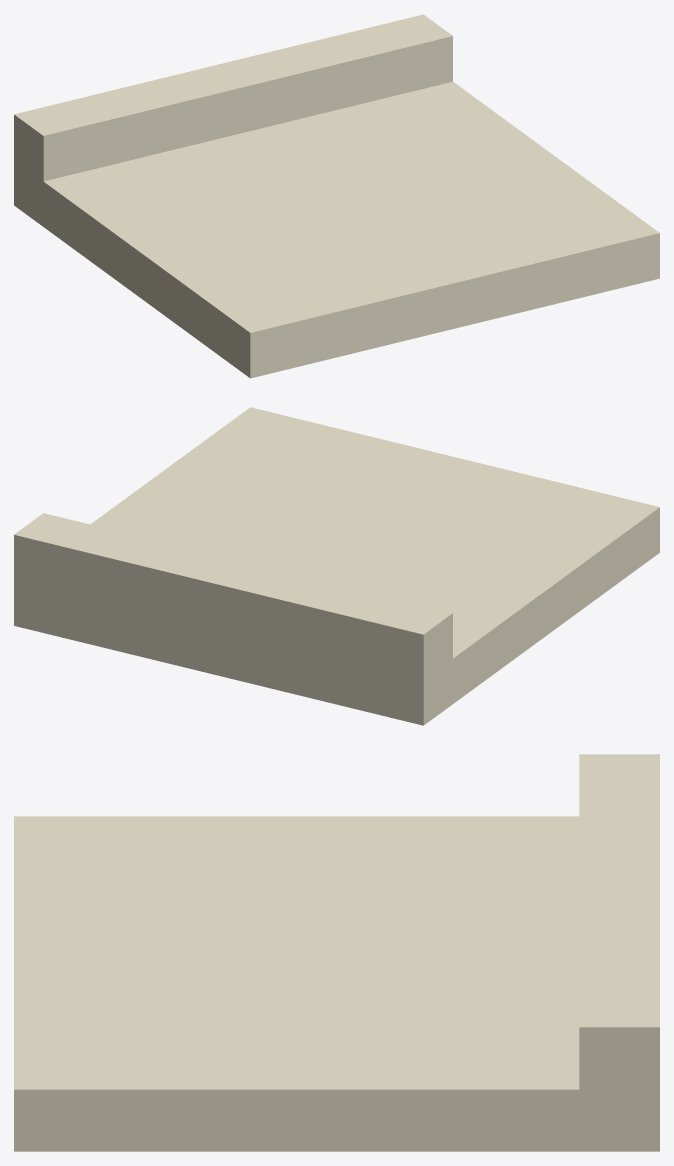
Rendered from modularBuildings_009.fbx.
3 renders of one model, top to bottom at view 1: azimuth 30°, elevation 25°; view 2: azimuth 150°, elevation 25°; view 3: azimuth 270°, elevation 25°, orthographic. The views are drawn at different scales.
Parts seen in each view (by area): view 1: Mesh1 Group1 Model; view 2: Mesh1 Group1 Model; view 3: Mesh1 Group1 Model.
Boxes of the visible parts, <box> form: Mesh1 Group1 Model: <box>14,14,659,378</box>; Mesh1 Group1 Model: <box>14,407,659,725</box>; Mesh1 Group1 Model: <box>14,754,659,1151</box>.
Size of the model in its own units: 1 by 0.2125 by 1.
